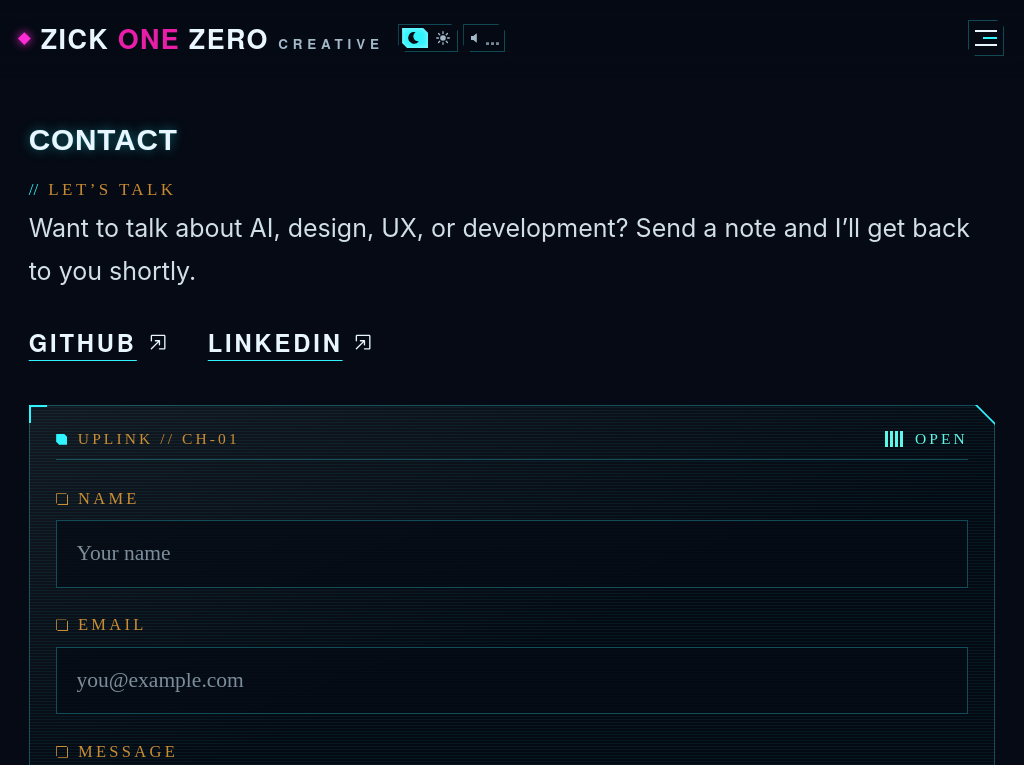
Test case: ContactContent › surfaces server errors and keeps the form editable
Type "Jane Doe" into the field labelled "Name" at (512, 554), box [56,520,968,588]
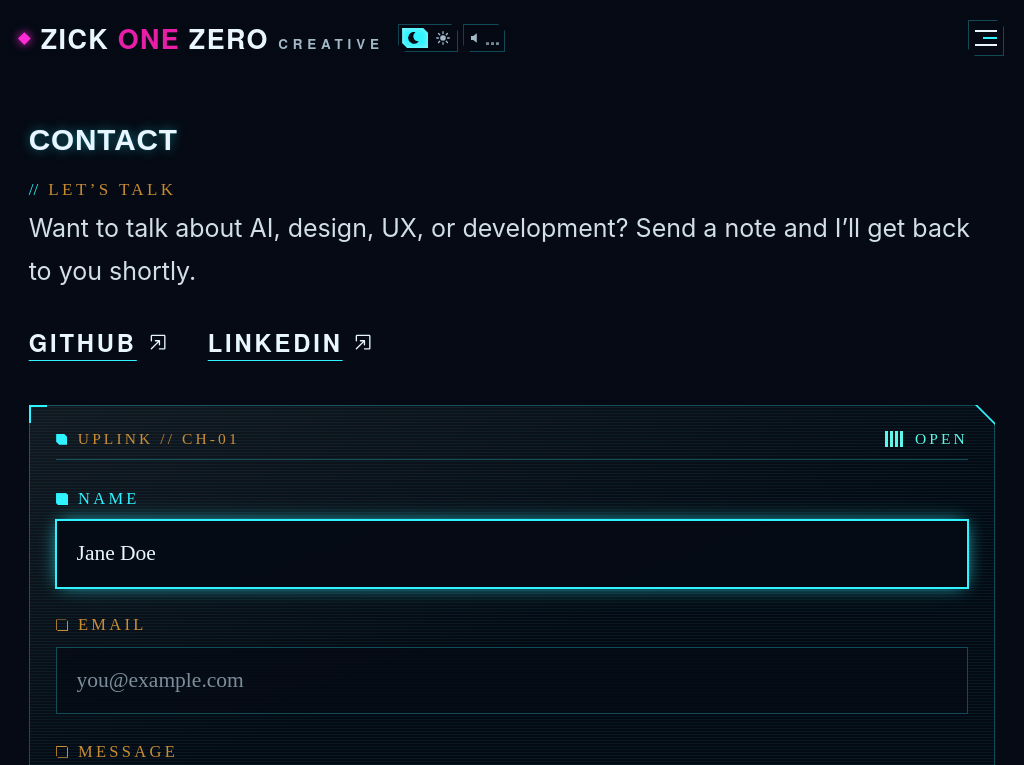
Type "jane@example.com" into the field labelled "Email" at (512, 680), box [56,647,968,714]
(page scrolled)
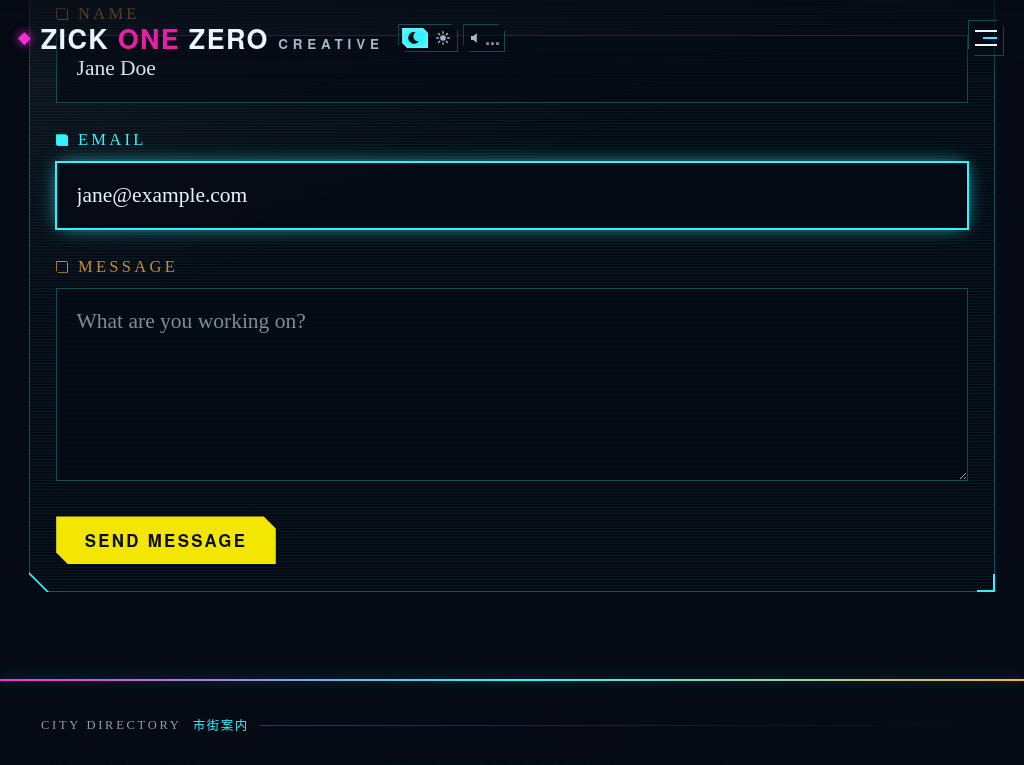
Type "Hello from the test suite." into the text box labelled "Message" at (512, 385), box [56,288,968,482]
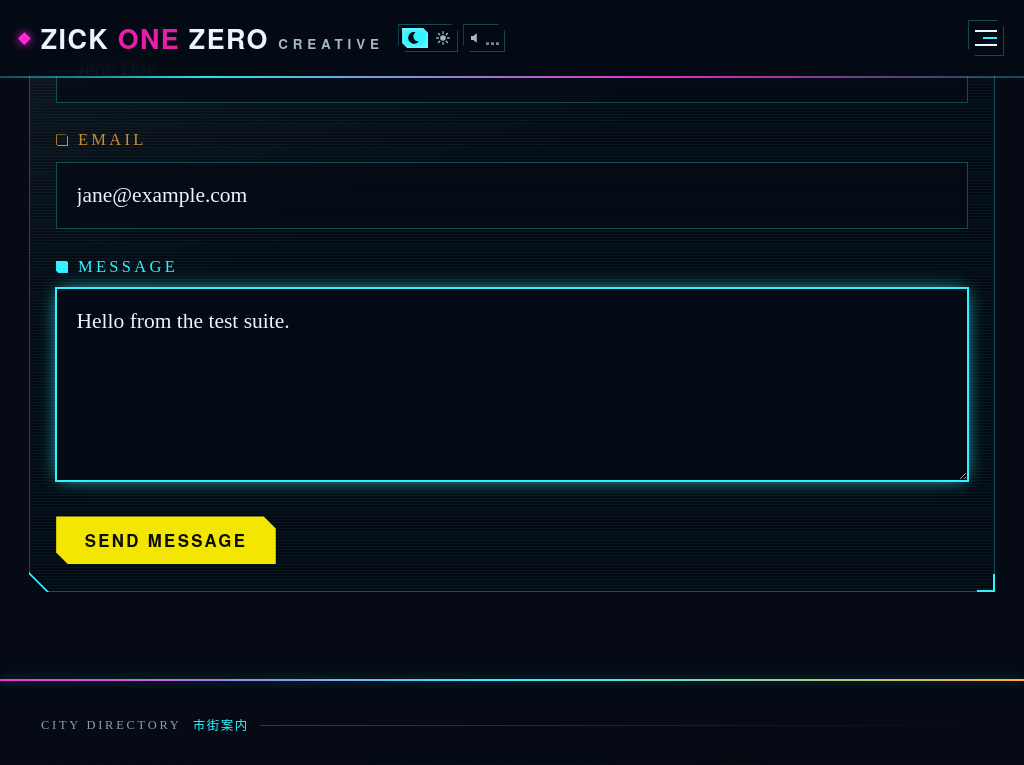
Click the button "Send message" at (166, 540), box [56,516,276,564]
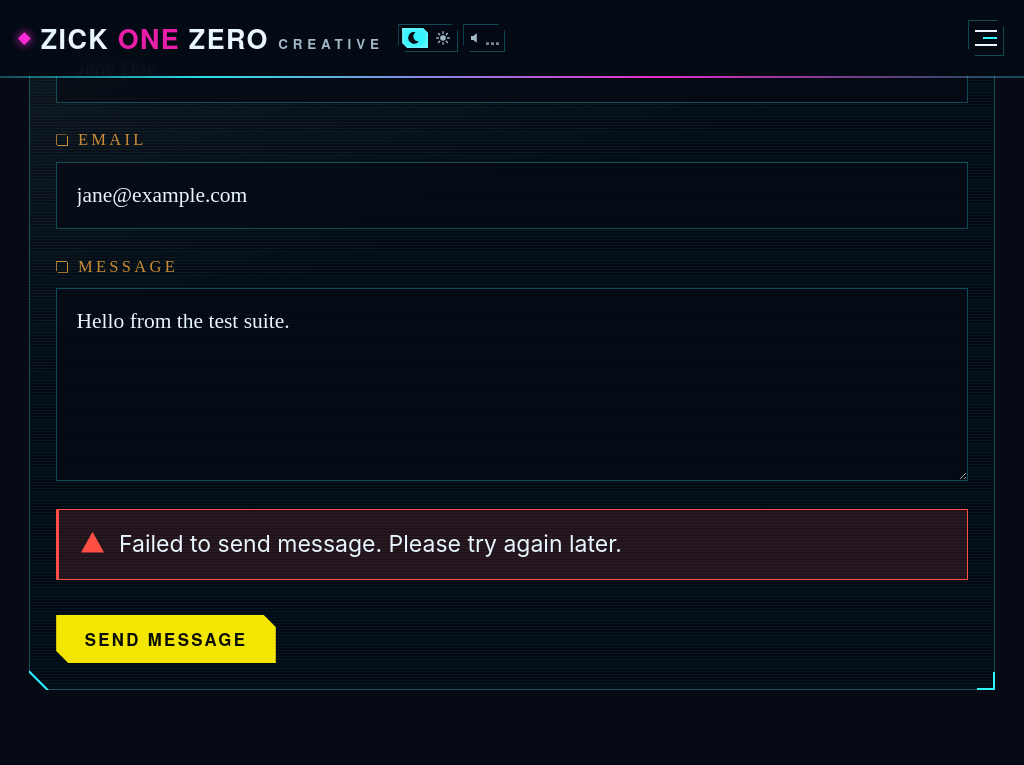
Check: the button "Send message" is enabled, box [56,615,276,663]
Check: the message shows "Failed to send message", box [119,530,622,558]
